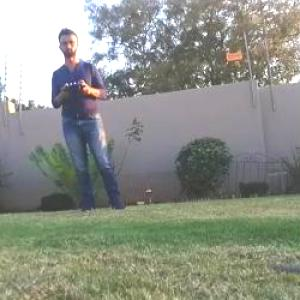follow: (47, 21, 133, 214)
